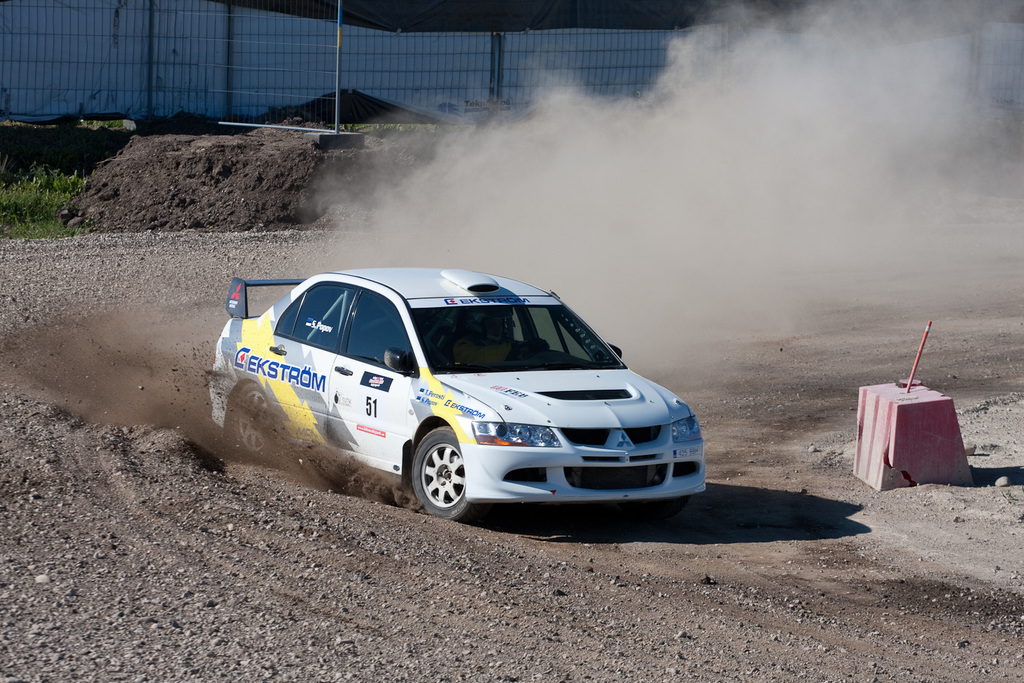mobil: (198, 244, 698, 544)
